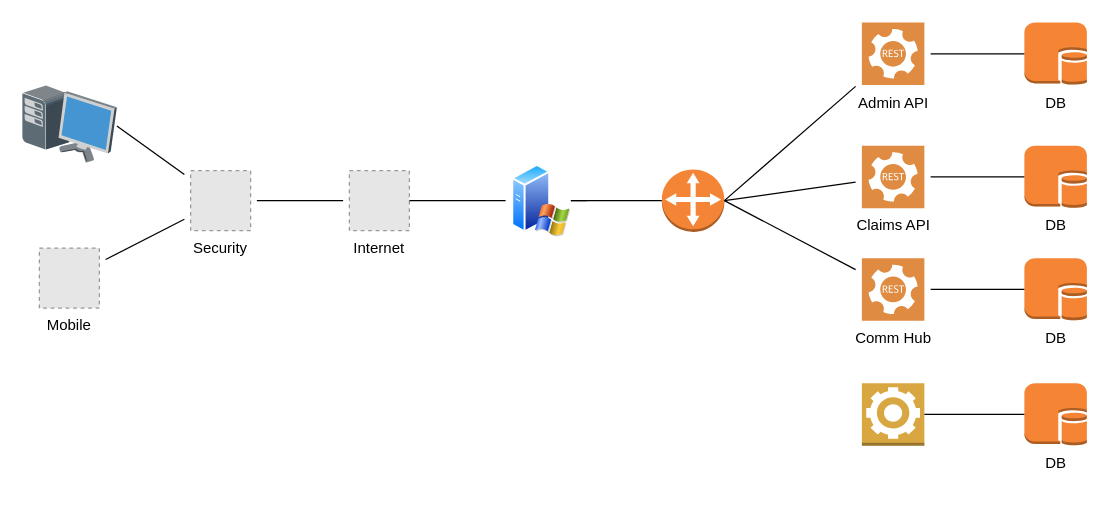
Image size: 1109x511. Some labels were removed from this diagram. Grey dashed boxes stand in for pictures. Here are the shapes that lost their labels. From the top down, the centre of each, then its label:
At (x=69, y=123): "Workstation".
At (x=540, y=200): "Server".
At (x=692, y=200): "API Gateway".
At (x=892, y=414): "Background Jobs".
